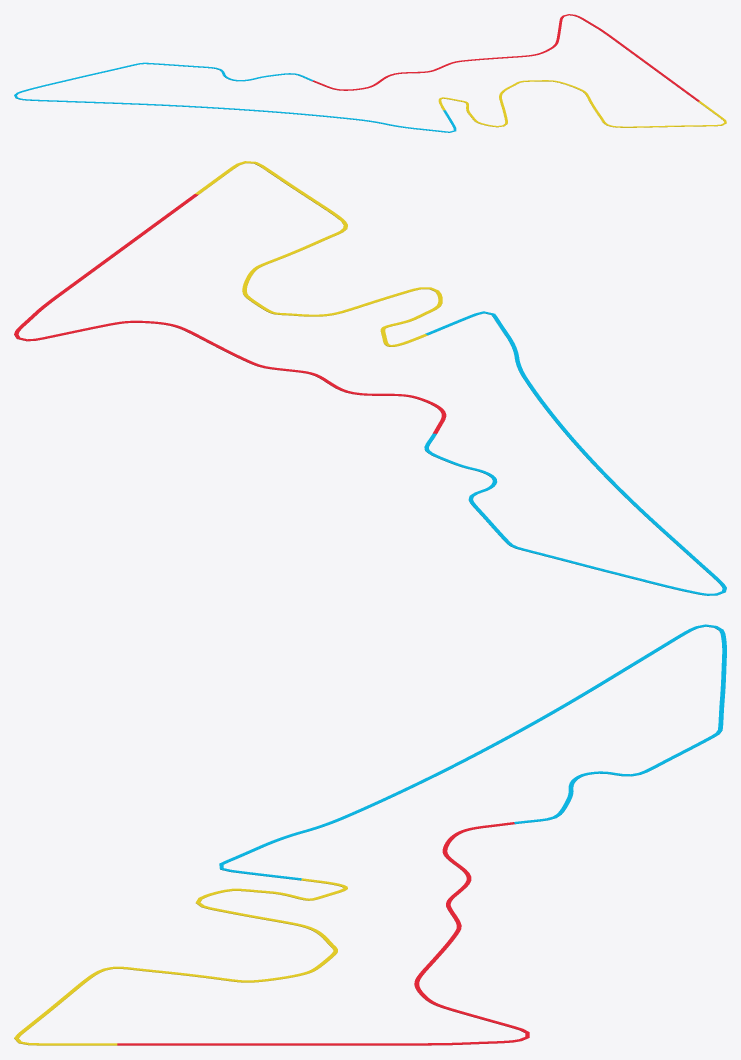
The model's file is AustinSectors.glb.
3 views of the same model, one above another, from view 1: azimuth 30°, elevation 25°; view 2: azimuth 150°, elevation 25°; view 3: azimuth 270°, elevation 25° (orthographic). The views are drawn at different scales.
Parts seen in each view (by area): view 1: SectorStrip_2, SectorStrip_1, SectorStrip_3; view 2: SectorStrip_2, SectorStrip_1, SectorStrip_3; view 3: SectorStrip_2, SectorStrip_1, SectorStrip_3.
Boxes of the visible parts, left/top/right/bottom form: SectorStrip_2: left=14, top=62, right=456, bottom=132; SectorStrip_1: left=312, top=14, right=699, bottom=101; SectorStrip_3: left=438, top=80, right=726, bottom=127; SectorStrip_2: left=424, top=311, right=726, bottom=595; SectorStrip_1: left=14, top=194, right=446, bottom=433; SectorStrip_3: left=195, top=161, right=442, bottom=346; SectorStrip_2: left=219, top=624, right=726, bottom=880; SectorStrip_1: left=117, top=822, right=529, bottom=1045; SectorStrip_3: left=14, top=878, right=347, bottom=1045.
Size of the model in its own units: 16.26 by 0.006 by 11.64.
